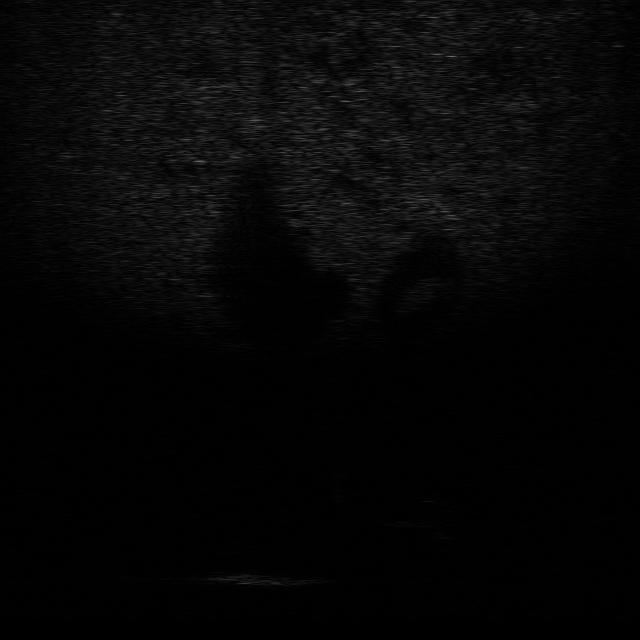ball: (308, 447, 357, 484)
metal bucket: (208, 560, 330, 594)
tyre: (380, 494, 465, 532)
